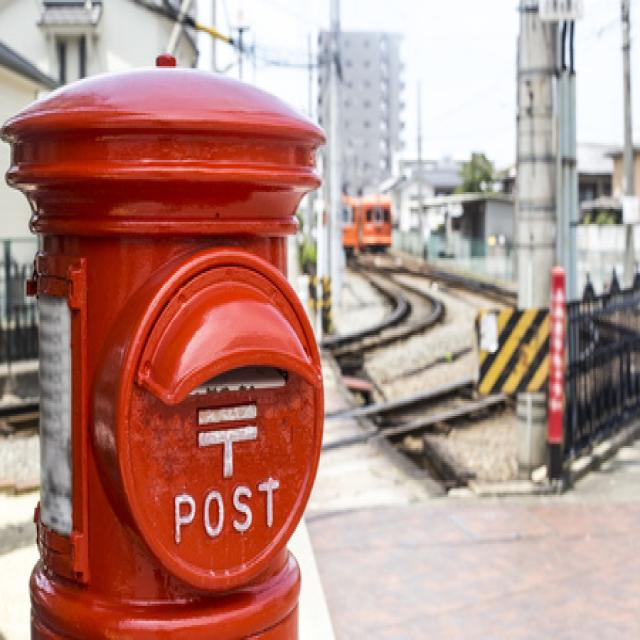Post Box: (0, 51, 326, 640)
